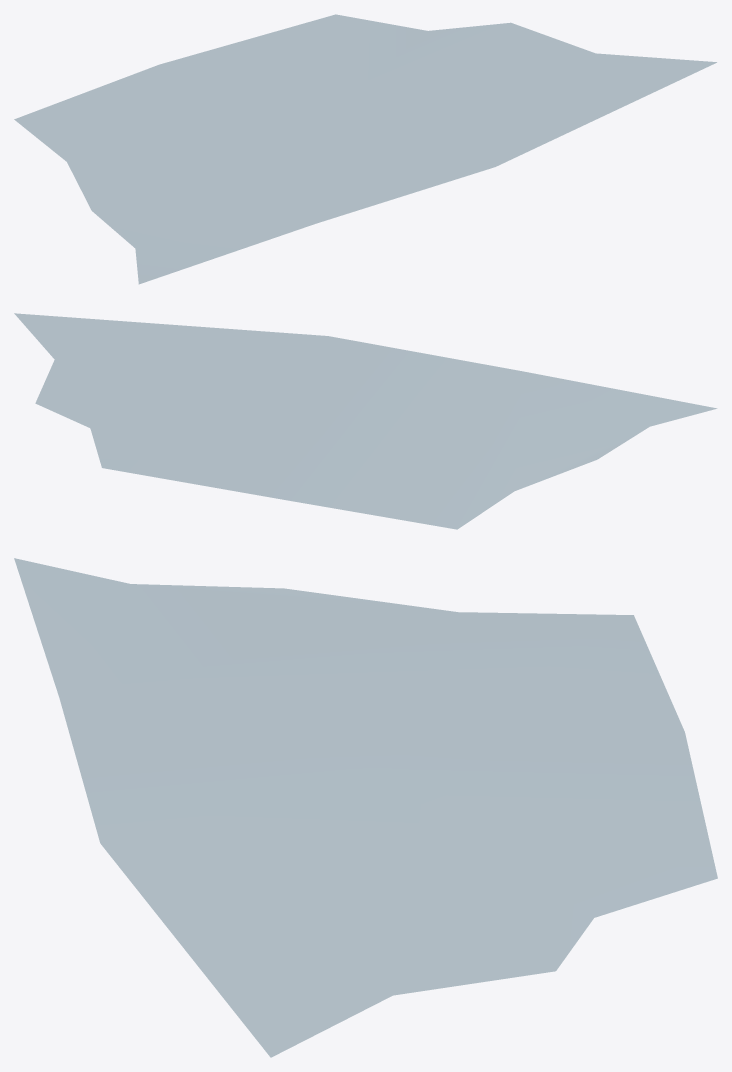
File: nieve3.fbx
3 views of the same model, one above another, from view 1: azimuth 30°, elevation 25°; view 2: azimuth 150°, elevation 25°; view 3: azimuth 270°, elevation 25° (orthographic). The views are drawn at different scales.
Parts seen in each view (by area): view 1: Cylinder002; view 2: Cylinder002; view 3: Cylinder002.
Boxes of the visible parts, left/top/right/bottom form: Cylinder002: left=14, top=14, right=716, bottom=284; Cylinder002: left=14, top=313, right=717, bottom=529; Cylinder002: left=14, top=558, right=717, bottom=1057.
Size of the model in its own units: 82.84 by 0.3925 by 49.31.
